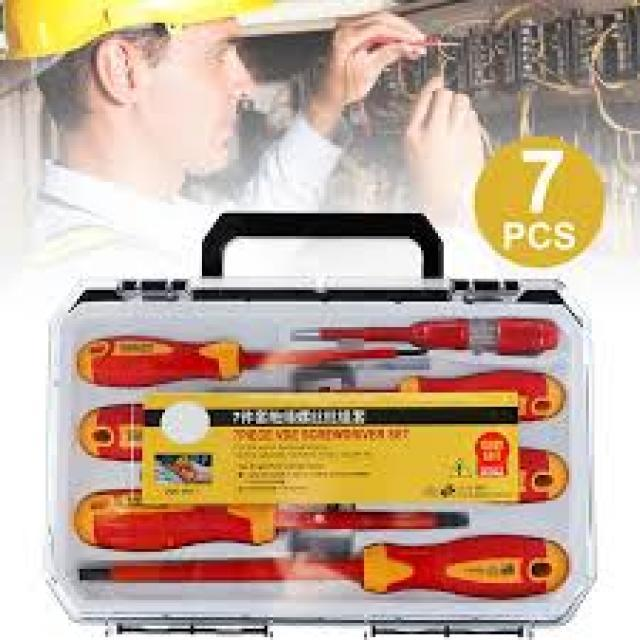screwdriver: (67, 530, 576, 604), (70, 485, 477, 559), (71, 322, 432, 389), (286, 307, 564, 361)
